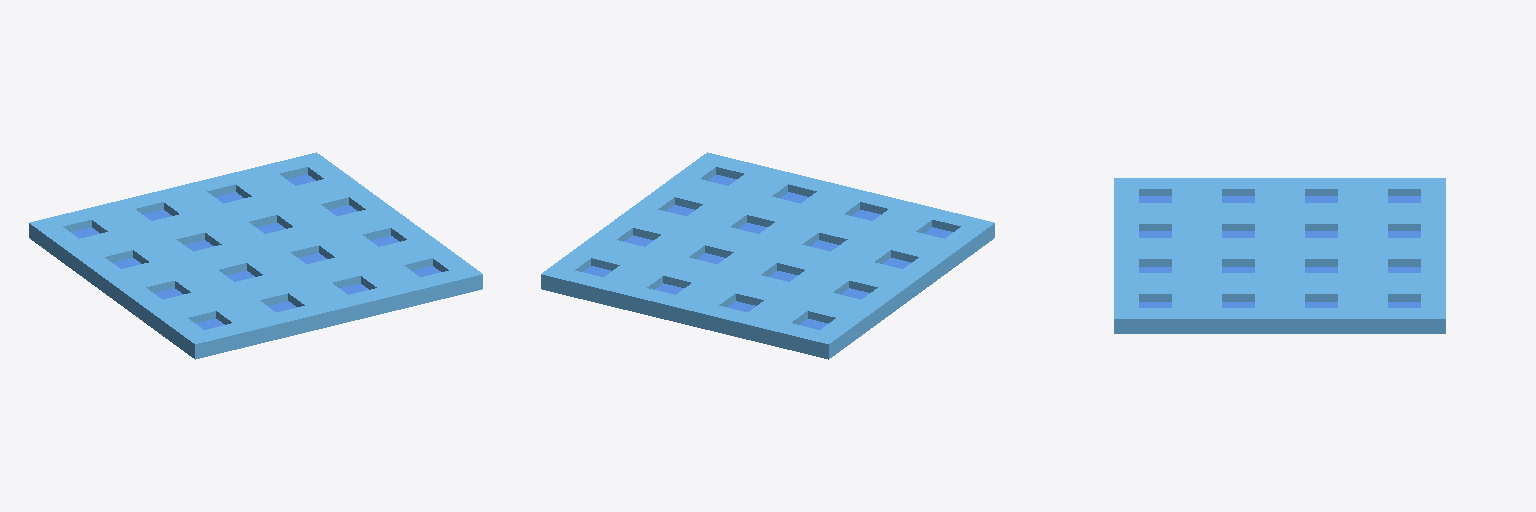
3 renders of one model, left to right at view 1: azimuth 30°, elevation 25°; view 2: azimuth 150°, elevation 25°; view 3: azimuth 270°, elevation 25°, orthographic.
Visible parts, largest first — view 1: object 1; view 2: object 1; view 3: object 1.
Part boxes in pixels (left/top/right/bottom): object 1: left=29, top=152, right=482, bottom=359; object 1: left=541, top=152, right=994, bottom=359; object 1: left=1114, top=178, right=1445, bottom=333.
Size of the model in its own units: 4 by 0.2 by 4.
Materials: 1 (1 with a texture image).